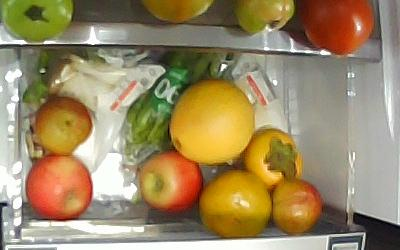apple: (25, 154, 93, 220), (140, 151, 204, 215)
grapefruit: (168, 79, 256, 167)
persimmon: (197, 170, 273, 238), (245, 127, 304, 192)
prune: (33, 98, 93, 156), (271, 179, 327, 236)
